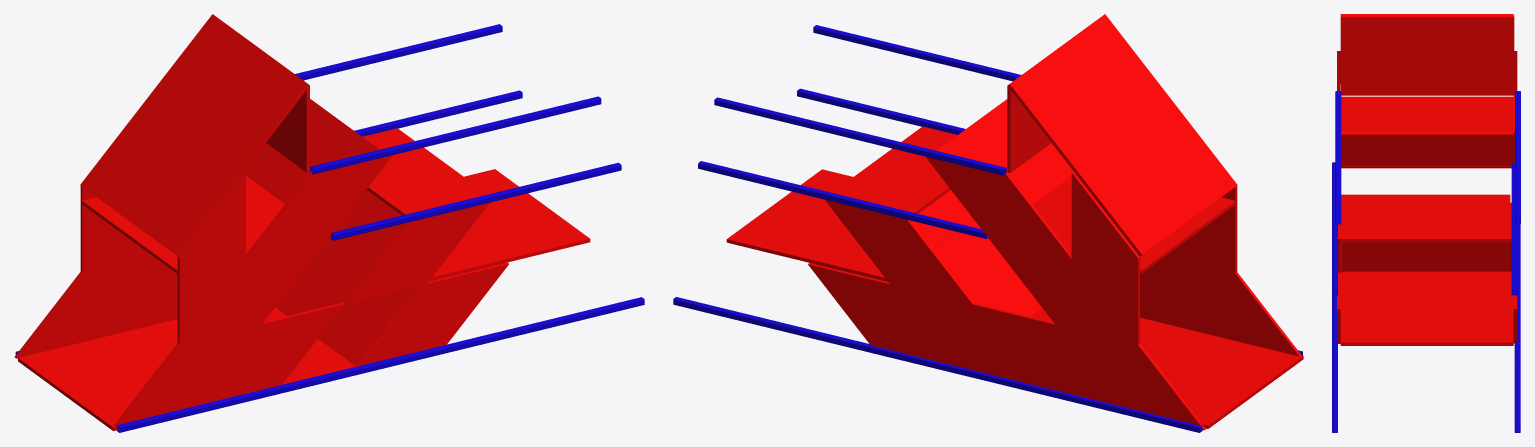
The picture shows the model from 3 angles, left to right: view 1: azimuth 30°, elevation 25°; view 2: azimuth 150°, elevation 25°; view 3: azimuth 270°, elevation 25°; orthographic projection. The views are drawn at different scales.
Parts seen in each view (by area): view 1: Obj_000002; view 2: Obj_000002; view 3: Obj_000002.
Boxes of the visible parts, x1,y1,x2,y2 form: Obj_000002: (14, 14, 644, 432); Obj_000002: (673, 14, 1303, 432); Obj_000002: (1332, 14, 1520, 432).
Size of the model in its own units: 3.2 by 1.73 by 1.09.
